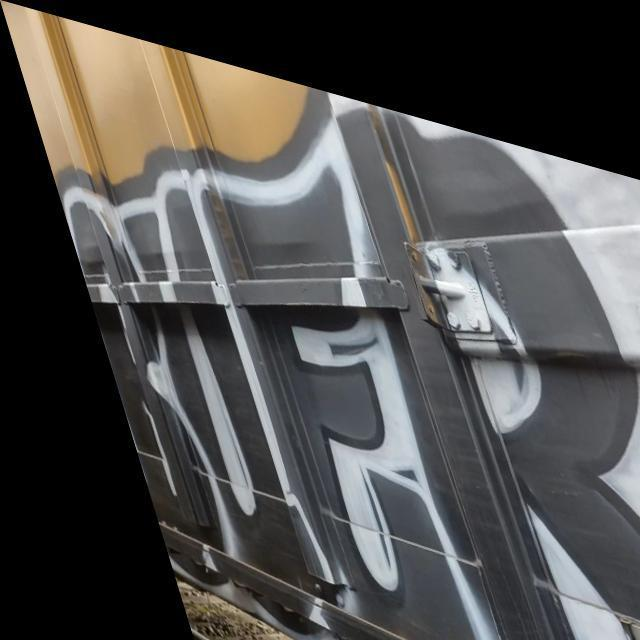-: (0, 0, 640, 640), (552, 617, 640, 640)
